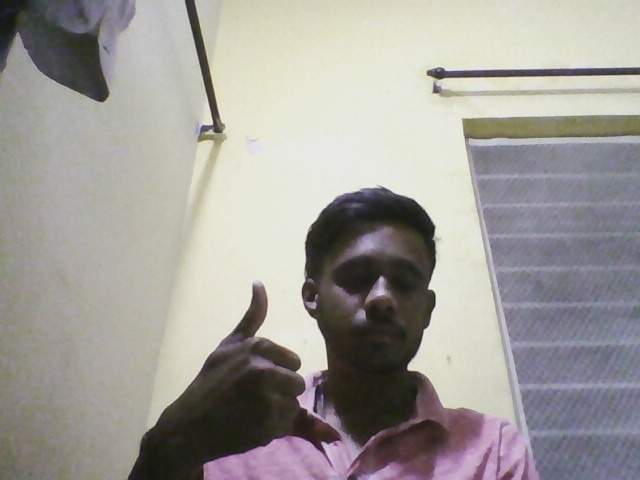yes: (182, 280, 311, 467)
